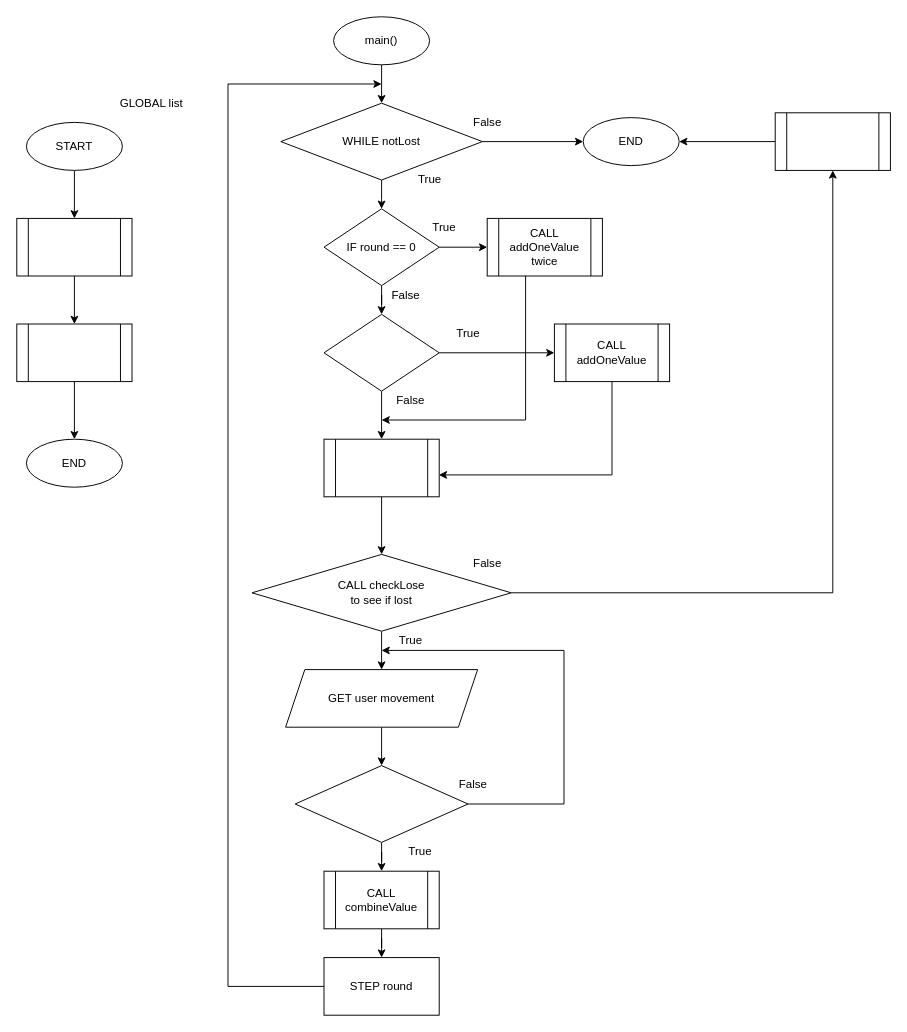
This 907x1032 diagram has some shape labels left out. The shapes that lost their labels are listed below. From the top down, each one's centre as x and y in pixels, then its label:
At pixel 832 141: "CALL loseScreen".
At pixel 74 246: "CALL setup".
At pixel 74 352: "CALL main".
At pixel 381 352: "If got empty spaces".
At pixel 381 467: "CALL displayBoard".
At pixel 381 803: "If valid movement".
